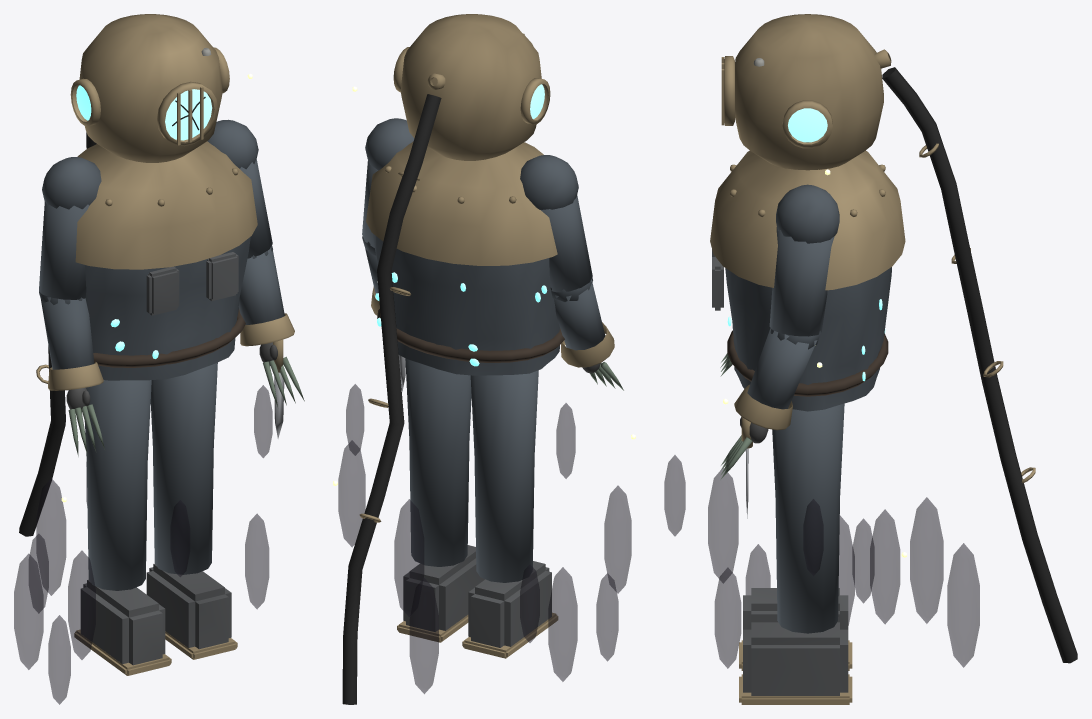
Rendered from deep_diver.glb.
3 renders of one model, left to right at view 1: azimuth 30°, elevation 25°; view 2: azimuth 150°, elevation 25°; view 3: azimuth 270°, elevation 25°, orthographic. The views are drawn at different scales.
Visible parts, largest first — view 1: Diver_Root_HelmetBrass, Head_HelmetBrass, Diver_Root_HSmoke, LegLegA, Suit, LegLegB, ArmA_DiveCanvas, LeadBootLegA, ArmB_DiveCanvas, LeadBootLegB, Diver_Root_LeadWeight, AirHose (+9 smaller); view 2: Diver_Root_HSmoke, Head_HelmetBrass, Diver_Root_HelmetBrass, Suit, LegLegA, LegLegB, AirHose, ArmA_DiveCanvas, LeadBootLegA, LeadBootLegB, ArmB_DiveCanvas, Belt (+3 smaller); view 3: Diver_Root_HSmoke, Head_HelmetBrass, Diver_Root_HelmetBrass, LegLegB, ArmB_DiveCanvas, Suit, AirHose, LeadBootLegB, Belt, LeadBootLegA, ArmB_HelmetBrass, BootSoleLegB (+1 smaller).
Part boxes in pixels (<box>): Diver_Root_HelmetBrass: <box>75,141,257,269</box>; Head_HelmetBrass: <box>70,14,229,162</box>; Diver_Root_HSmoke: <box>14,385,272,704</box>; LegLegA: <box>84,380,151,590</box>; Suit: <box>85,237,250,380</box>; LegLegB: <box>150,362,217,574</box>; ArmA_DiveCanvas: <box>39,157,101,369</box>; LeadBootLegA: <box>80,579,165,665</box>; ArmB_DiveCanvas: <box>207,119,284,324</box>; LeadBootLegB: <box>146,563,231,649</box>; Diver_Root_LeadWeight: <box>146,252,238,315</box>; AirHose: <box>19,132,96,536</box>; Diver_Root_HSmoke: <box>338,384,631,693</box>; Head_HelmetBrass: <box>393,14,550,160</box>; Diver_Root_HelmetBrass: <box>366,141,557,265</box>; Suit: <box>373,234,559,375</box>; LegLegA: <box>470,370,538,582</box>; LegLegB: <box>405,358,471,566</box>; AirHose: <box>342,94,441,704</box>; ArmA_DiveCanvas: <box>520,155,605,350</box>; LeadBootLegA: <box>468,561,551,647</box>; LeadBootLegB: <box>403,545,484,631</box>; ArmB_DiveCanvas: <box>362,118,414,294</box>; Belt: <box>377,309,564,362</box>; Diver_Root_HSmoke: <box>664,455,979,668</box>; Head_HelmetBrass: <box>721,14,891,170</box>; Diver_Root_HelmetBrass: <box>710,150,905,290</box>; LegLegB: <box>772,403,844,633</box>; ArmB_DiveCanvas: <box>747,184,839,409</box>; Suit: <box>725,267,891,411</box>; AirHose: <box>882,67,1077,663</box>; LeadBootLegB: <box>743,622,848,695</box>; Belt: <box>727,330,888,396</box>; LeadBootLegA: <box>743,588,848,629</box>; ArmB_HelmetBrass: <box>734,384,792,448</box>; BootSoleLegB: <box>739,674,852,704</box>.
Bounding box in the file's own units: 0.7587 × 1.84 × 1.02.
